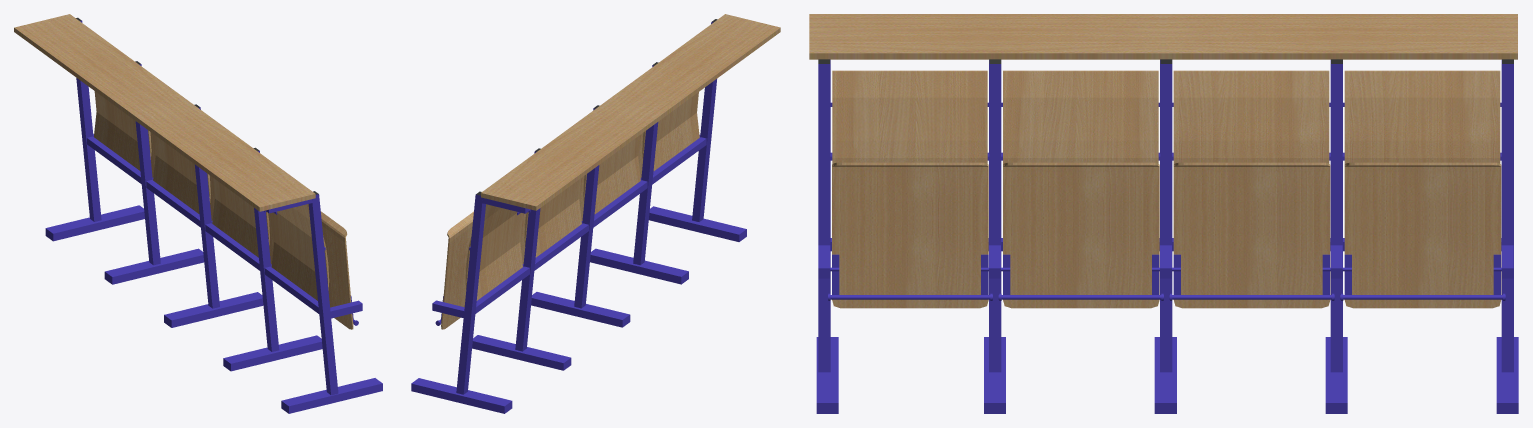
The model's file is lawka_4_sr.fbx.
3 views of the same model, side by side, from view 1: azimuth 30°, elevation 25°; view 2: azimuth 150°, elevation 25°; view 3: azimuth 270°, elevation 25° (orthographic). The views are drawn at different scales.
Visible parts, largest first — view 1: srodek5; view 2: srodek5; view 3: srodek5.
Part boxes in pixels (bbox=[...]): srodek5: bbox=[14, 14, 382, 413]; srodek5: bbox=[411, 14, 780, 413]; srodek5: bbox=[809, 14, 1518, 413].
Size of the model in its own units: 150 by 248 by 511.
